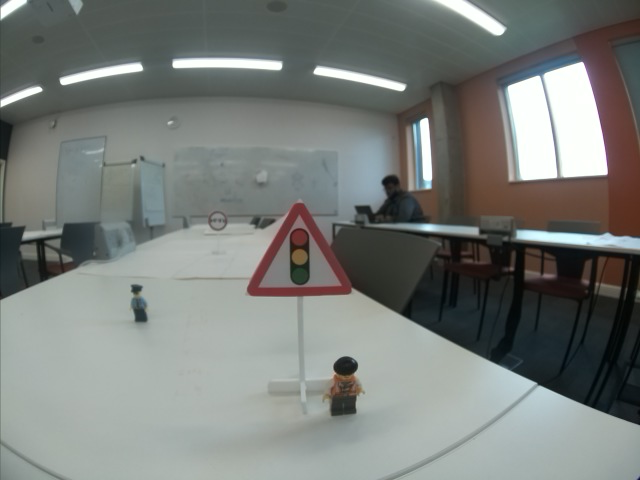6ft6: (208, 209, 228, 232)
Lego Man: (322, 353, 367, 416), (129, 284, 148, 323)
Traffic lights: (246, 201, 353, 296)
